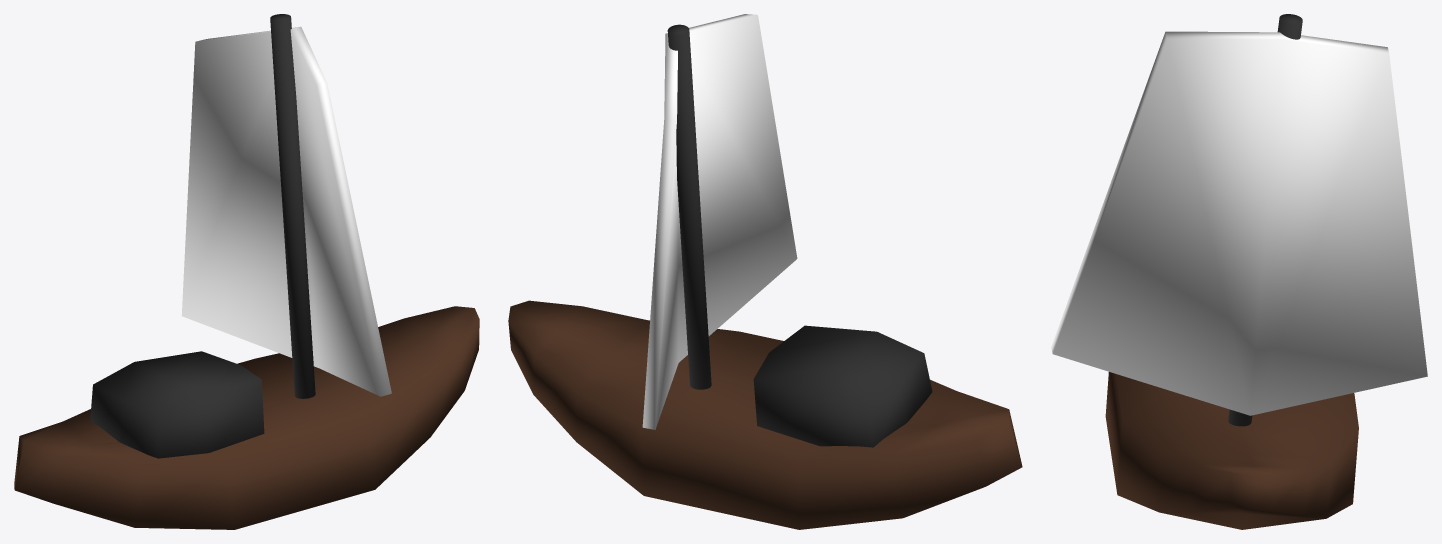
Rendered from ship.obj.obj.
3 views of the same model, side by side, from view 1: azimuth 30°, elevation 25°; view 2: azimuth 150°, elevation 25°; view 3: azimuth 270°, elevation 25° (orthographic). The views are drawn at different scales.
Visible parts, largest first — view 1: s.0017, s.0022, s.0020, p.0018; view 2: s.0017, s.0022, s.0020, p.0018; view 3: s.0022, s.0017, p.0018.
Part boxes in pixels (x1,y1,x2,y2): s.0017: (14,306,479,529); s.0022: (181,26,391,396); s.0020: (90,351,264,458); p.0018: (270,14,315,398); s.0017: (508,300,1022,529); s.0022: (642,14,797,429); s.0020: (753,325,932,447); p.0018: (667,24,711,389); s.0022: (1051,31,1427,415); s.0017: (1105,372,1358,529); p.0018: (1228,14,1302,426).
Size of the model in its own units: 0.5631 by 0.514 by 0.3448.
